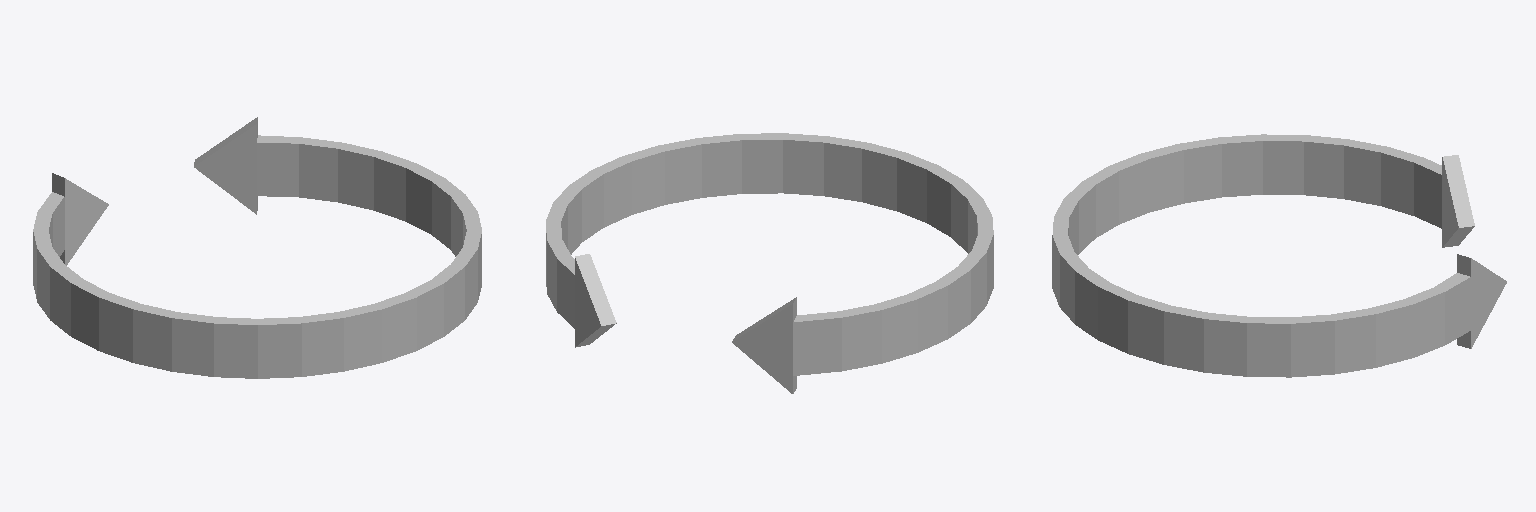
Rendered from Arrow_4.obj.
3 views of the same model, side by side, from view 1: azimuth 30°, elevation 25°; view 2: azimuth 150°, elevation 25°; view 3: azimuth 270°, elevation 25° (orthographic).
Visible parts, largest first — view 1: Arrow_4; view 2: Arrow_4; view 3: Arrow_4.
Boxes of the visible parts, box(x1,y1,x2,y2) form: Arrow_4: box(33, 117, 481, 378); Arrow_4: box(546, 133, 993, 393); Arrow_4: box(1052, 134, 1506, 377).
Size of the model in its own units: 2.59 by 0.5801 by 2.63.